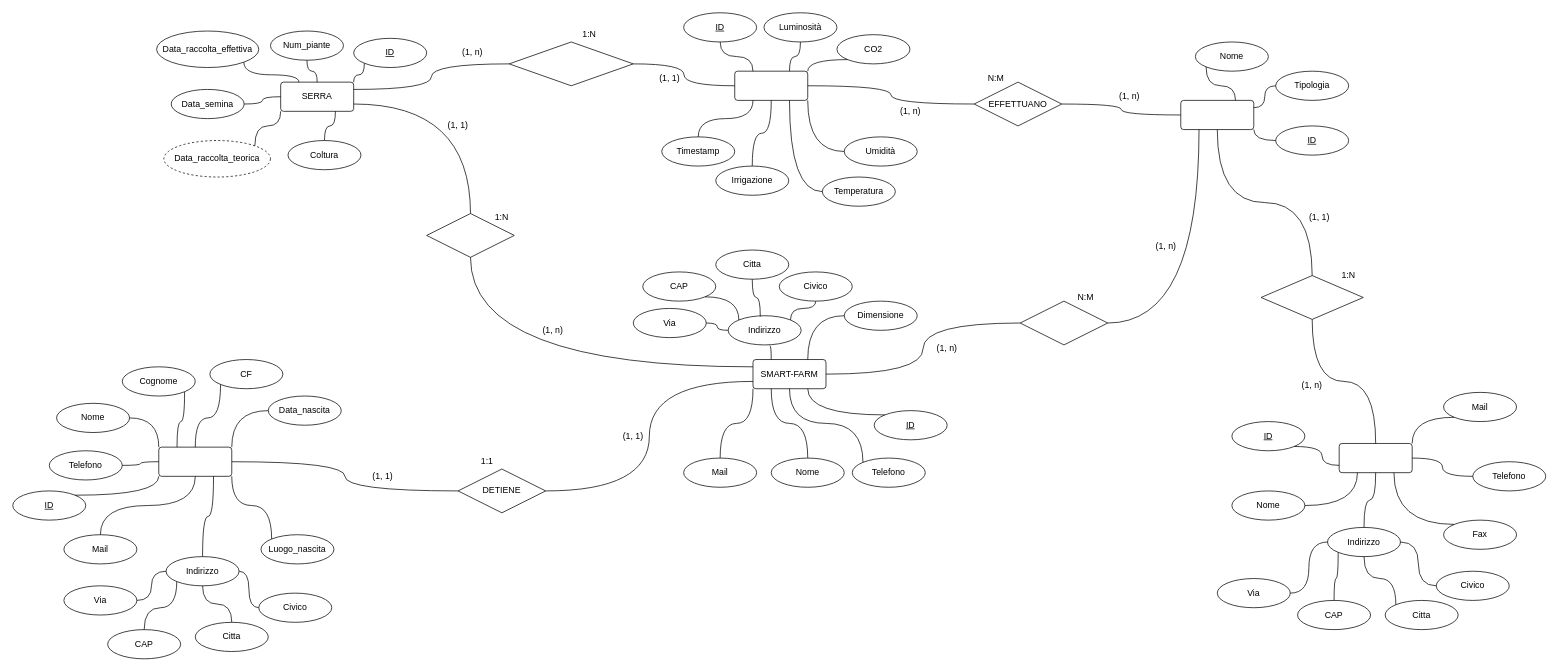
This 1559x672 diagram has some shape labels left out. Here are the shapes that lost their labels. From the top down, the box of each, then its label:
(508, 41, 633, 86): CARATTERIZZATA
(734, 70, 808, 100): MISURE
(1180, 100, 1254, 130): TECNOLOGIE
(426, 213, 514, 257): CONTIENE
(1260, 275, 1363, 319): FORNISCONO
(1019, 300, 1108, 345): UTILIZZA
(158, 446, 232, 476): PROPRIETARIO
(1338, 443, 1412, 473): AZIENDE FORNITRICI
